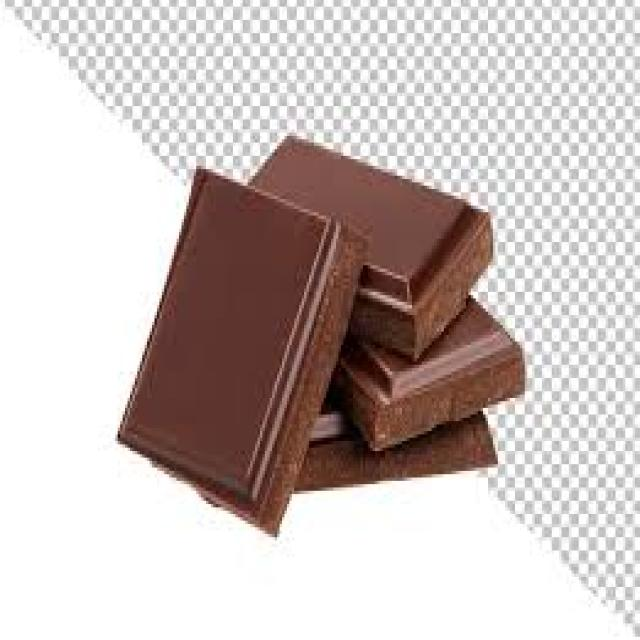Chocolate: (114, 125, 524, 540)
